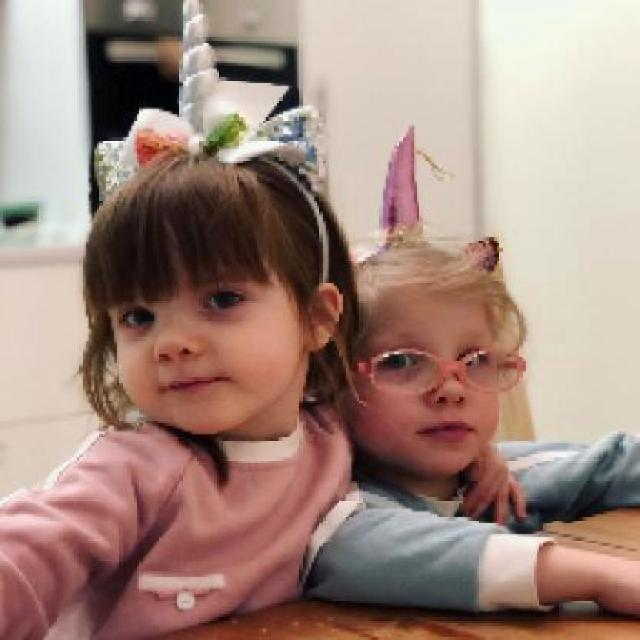child: (3, 145, 640, 638), (351, 234, 640, 532)
